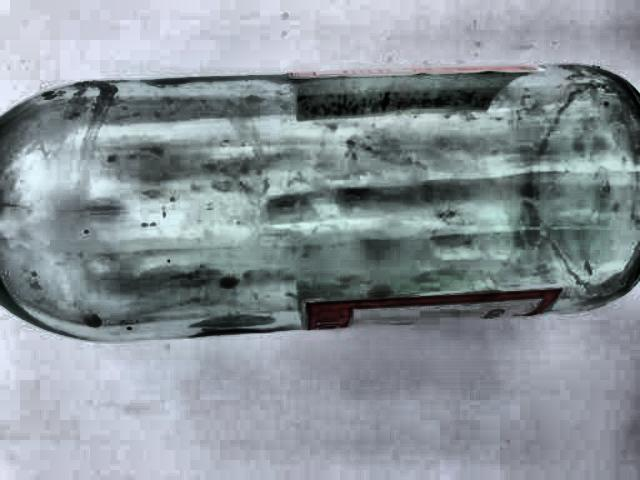Bottles: (0, 45, 640, 337)
